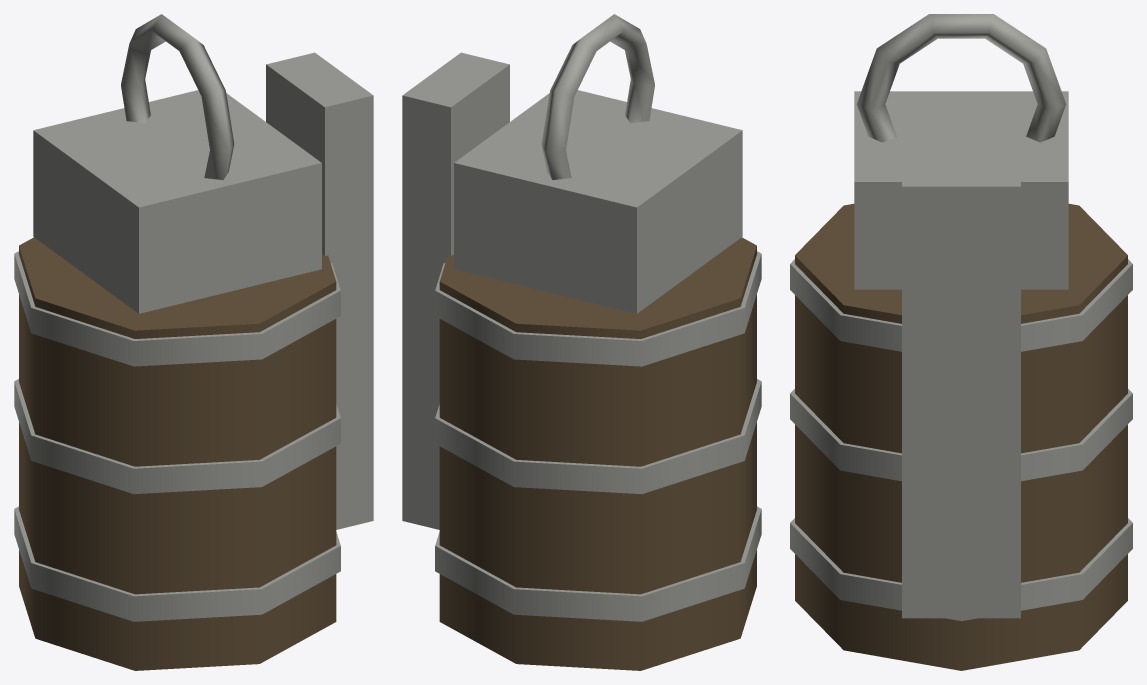
3 renders of one model, left to right at view 1: azimuth 30°, elevation 25°; view 2: azimuth 150°, elevation 25°; view 3: azimuth 270°, elevation 25°, orthographic.
Parts seen in each view (by area): view 1: weapon-grenade-frag-painted; view 2: weapon-grenade-frag-painted; view 3: weapon-grenade-frag-painted.
Part boxes in pixels (x1=…): weapon-grenade-frag-painted: x1=14, y1=14, x2=373, y2=670; weapon-grenade-frag-painted: x1=402, y1=14, x2=761, y2=670; weapon-grenade-frag-painted: x1=790, y1=14, x2=1132, y2=670.
Bounding box in the file's own units: 0.328 × 0.5789 × 0.3067.
